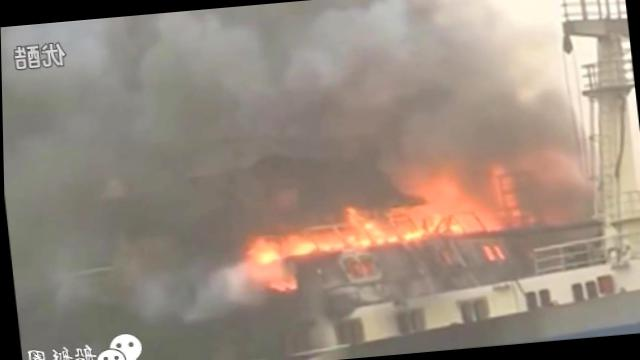fire: (392, 195, 497, 242), (242, 236, 288, 283), (281, 228, 350, 254), (423, 176, 470, 202), (345, 207, 375, 247), (371, 220, 396, 243)
